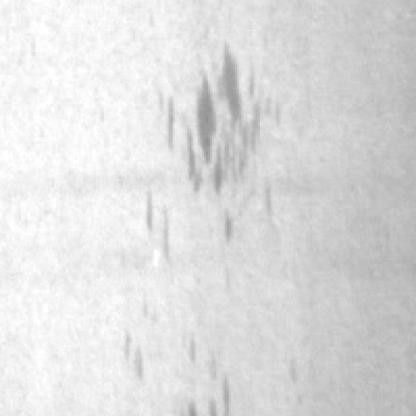inclusion: (158, 46, 268, 223)
